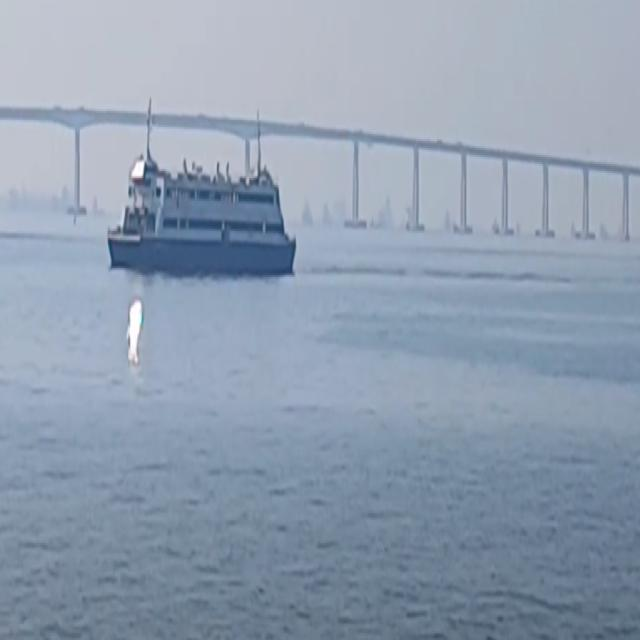Passenger: (107, 104, 295, 275)
